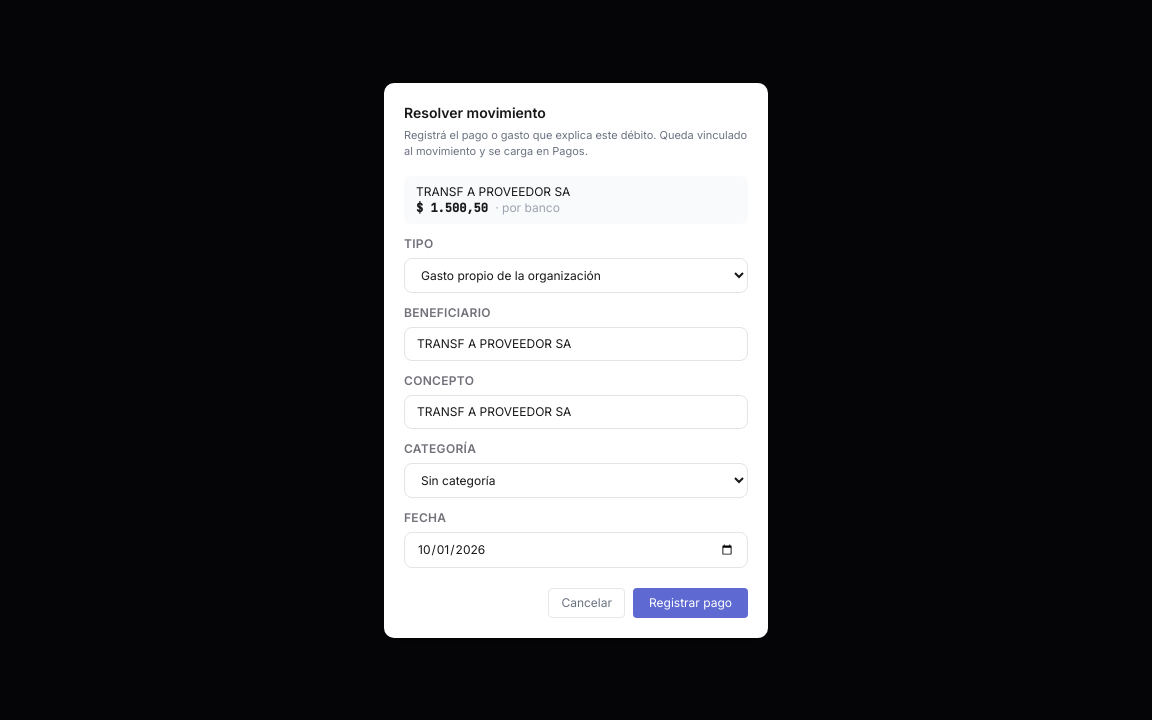
Test: ResolverMovimientoModal › muestra el error del servidor
This screenshot has width=1152, height=720.
Click the button "Registrar pago": (690, 602) [633,588,748,618]
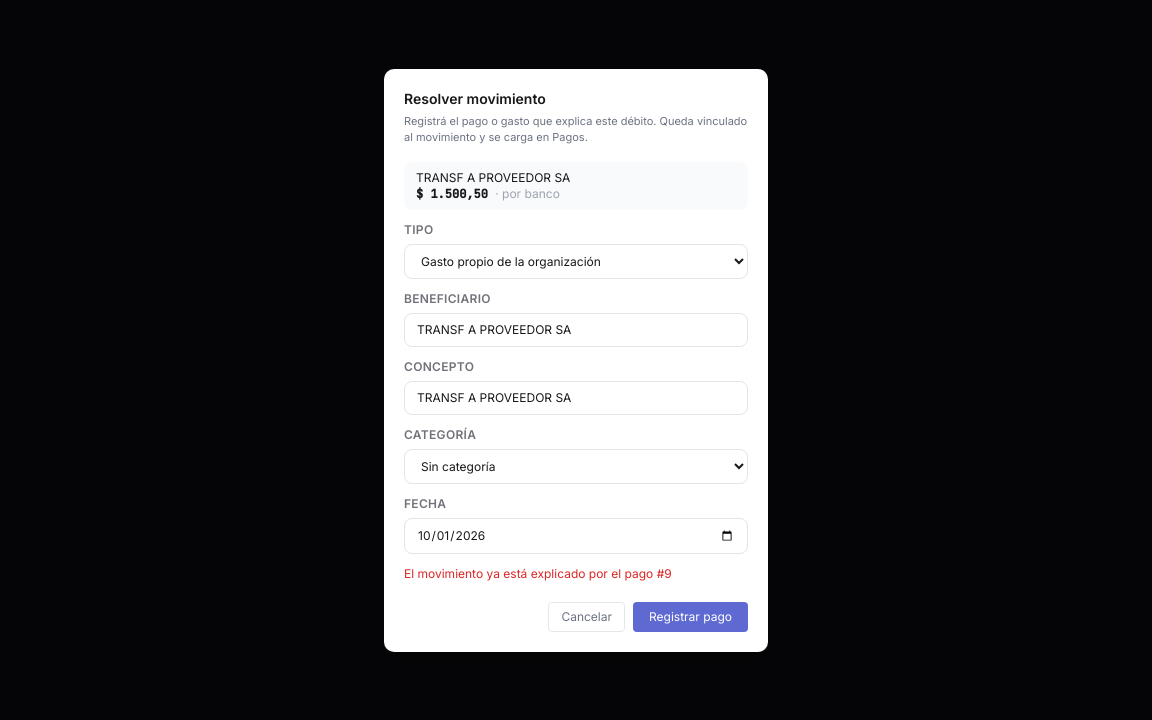
Expected: the text "El movimiento ya está explicado por el pago #9" is shown, [404,566,672,580]
